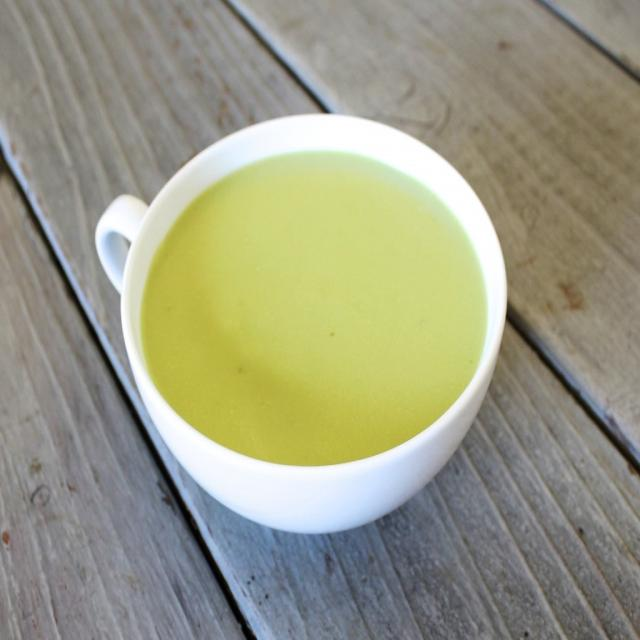Tea: (138, 147, 484, 465)
